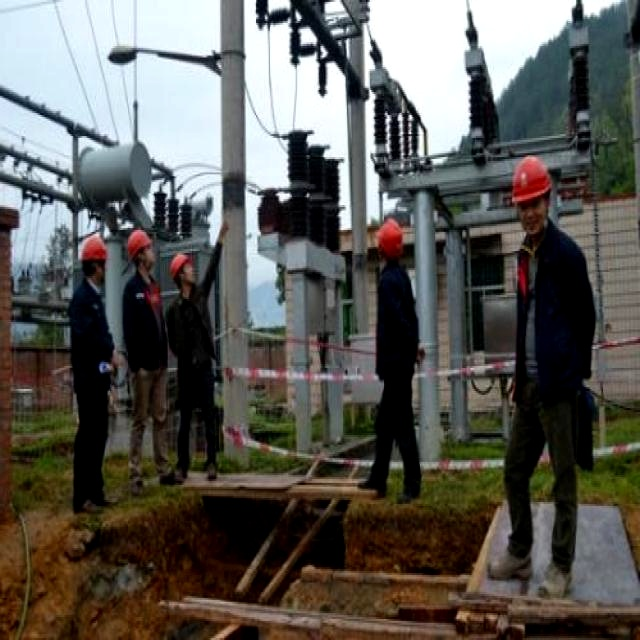Con_Casco: (510, 154, 550, 228)
